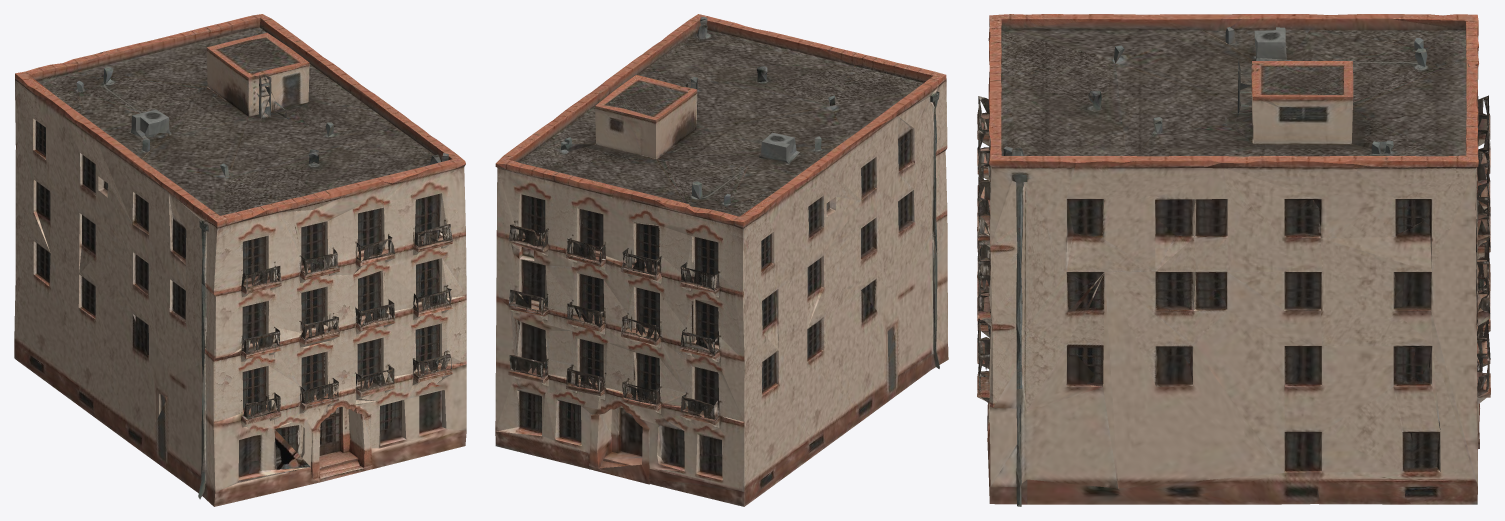
The model's file is bld-stucco.glb.
The picture shows the model from 3 angles, left to right: view 1: azimuth 30°, elevation 25°; view 2: azimuth 150°, elevation 25°; view 3: azimuth 270°, elevation 25°; orthographic projection. The views are drawn at different scales.
Parts seen in each view (by area): view 1: output_unwrapped; view 2: output_unwrapped; view 3: output_unwrapped.
Boxes of the visible parts, x1,y1,x2,y2 form: output_unwrapped: (14, 14, 466, 506); output_unwrapped: (495, 14, 948, 506); output_unwrapped: (977, 14, 1490, 506).
Size of the model in its own units: 1.35 by 1.58 by 1.9.
1 material, 1 textured.
